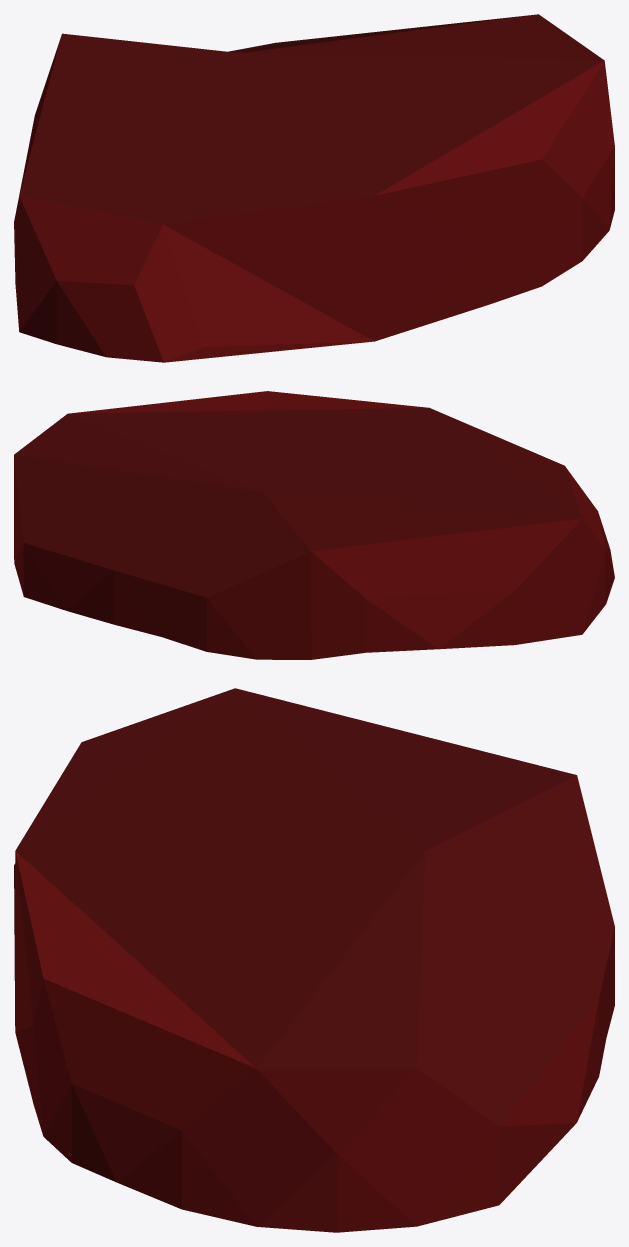
File: RawVenison.fbx
3 views of the same model, one above another, from view 1: azimuth 30°, elevation 25°; view 2: azimuth 150°, elevation 25°; view 3: azimuth 270°, elevation 25° (orthographic). The views are drawn at different scales.
Parts seen in each view (by area): view 1: Cube; view 2: Cube; view 3: Cube.
Boxes of the visible parts, x1=… form: Cube: x1=14, y1=14, x2=614, y2=362; Cube: x1=14, y1=391, x2=614, y2=659; Cube: x1=14, y1=688, x2=614, y2=1232.
Size of the model in its own units: 471 by 133 by 328.
